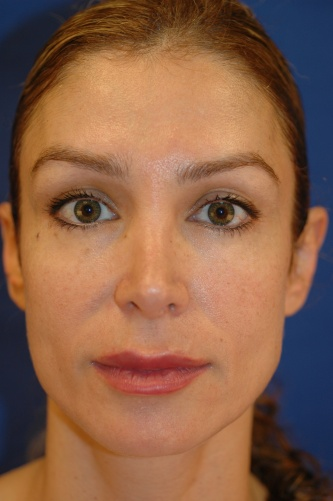Forehead: (34, 67, 276, 166)
